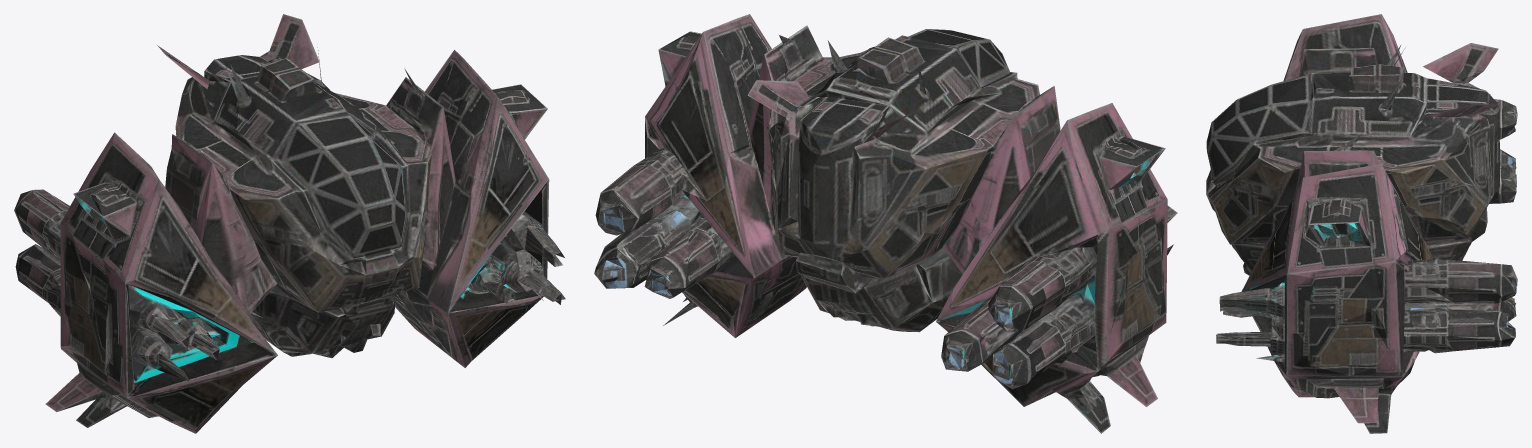
Rendered from Boss4-v2.glb.
The picture shows the model from 3 angles, left to right: view 1: azimuth 30°, elevation 25°; view 2: azimuth 150°, elevation 25°; view 3: azimuth 270°, elevation 25°; orthographic projection. The views are drawn at different scales.
Parts seen in each view (by area): view 1: output_unwrapped; view 2: output_unwrapped; view 3: output_unwrapped.
Part boxes in pixels (x1,y1,x2,y2): output_unwrapped: (14,14,565,433); output_unwrapped: (594,14,1177,433); output_unwrapped: (1206,14,1517,433).
Size of the model in its own units: 1.88 by 1.16 by 1.16.
1 material, 1 textured.
